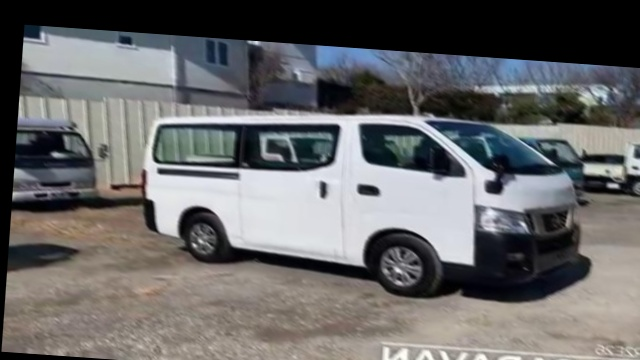van: (134, 97, 593, 301)
